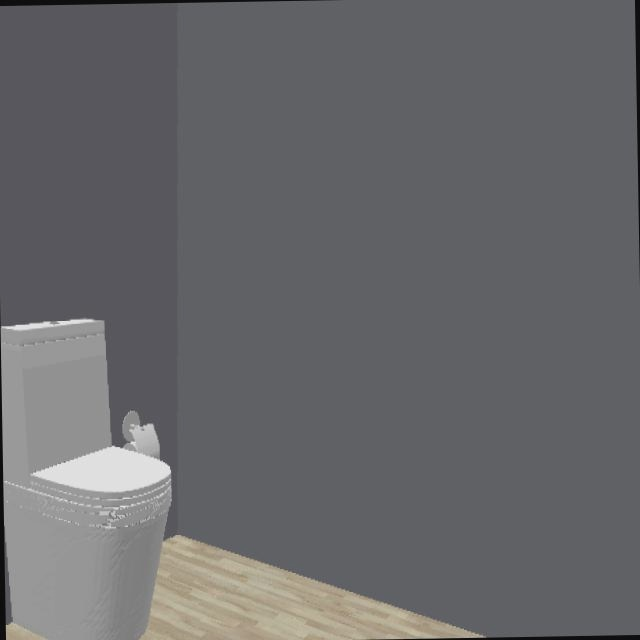toilet: (0, 320, 170, 640)
